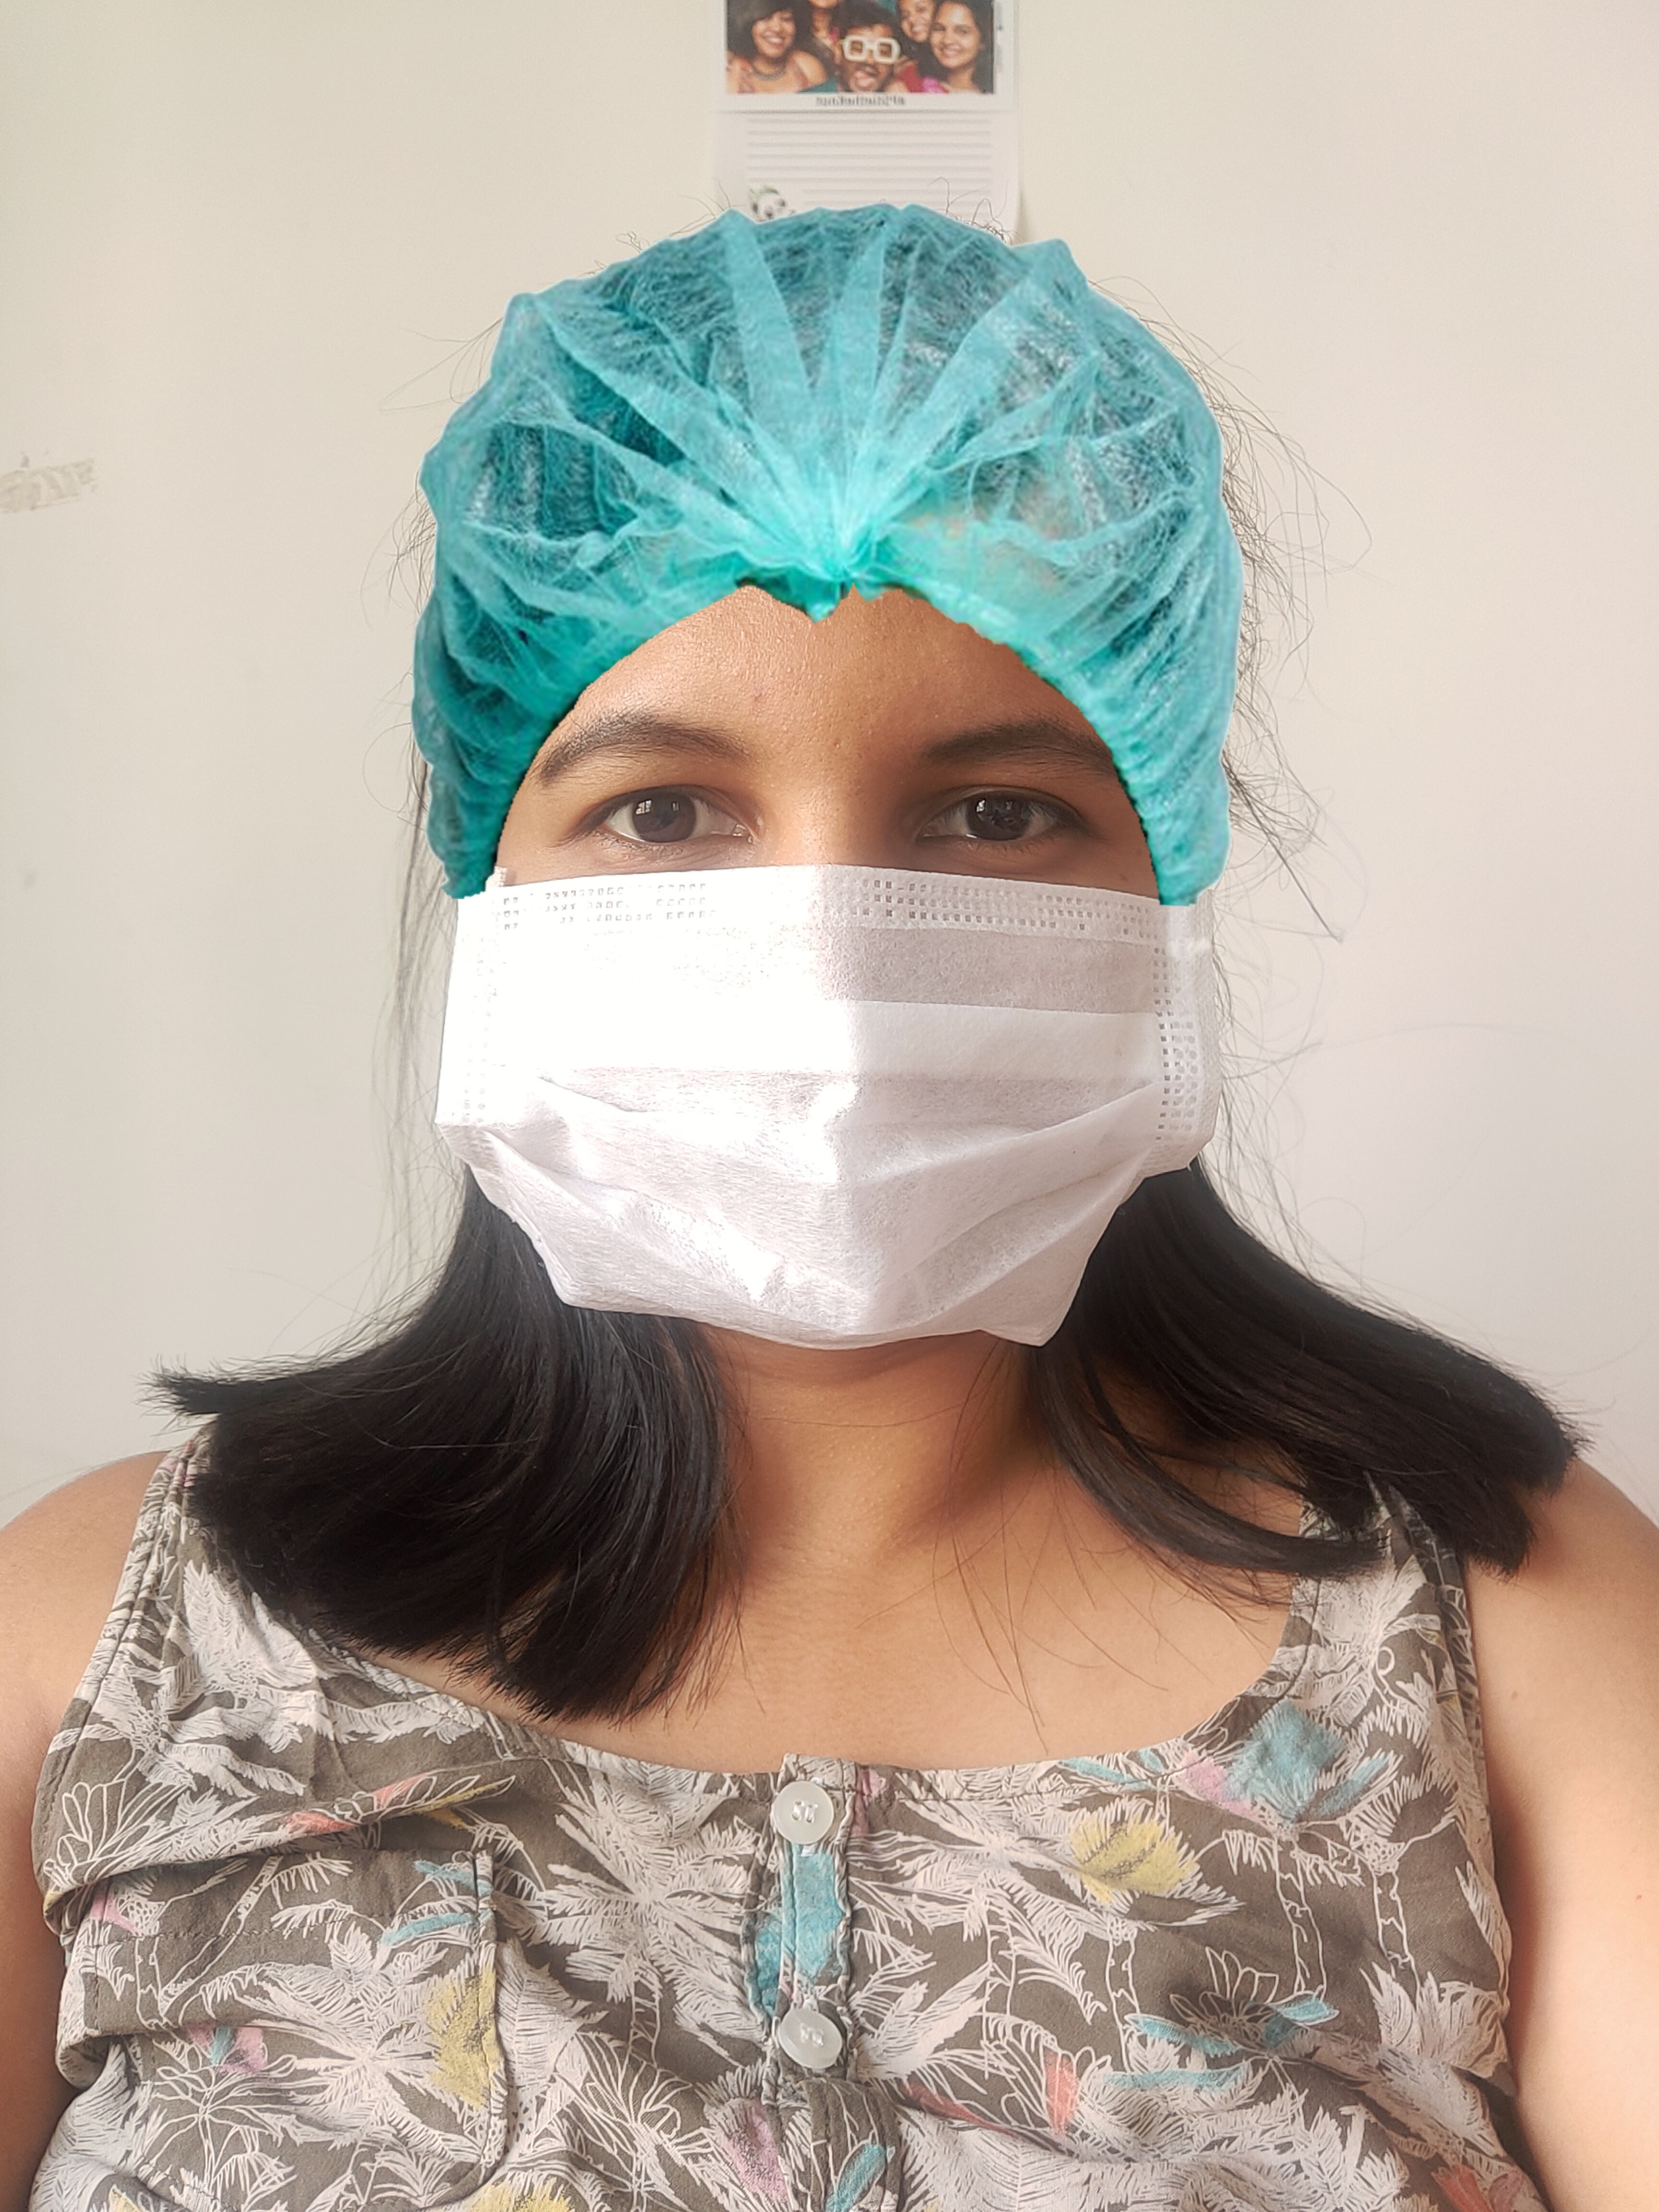with_mask_and_cap: (424, 214, 1226, 1350)
